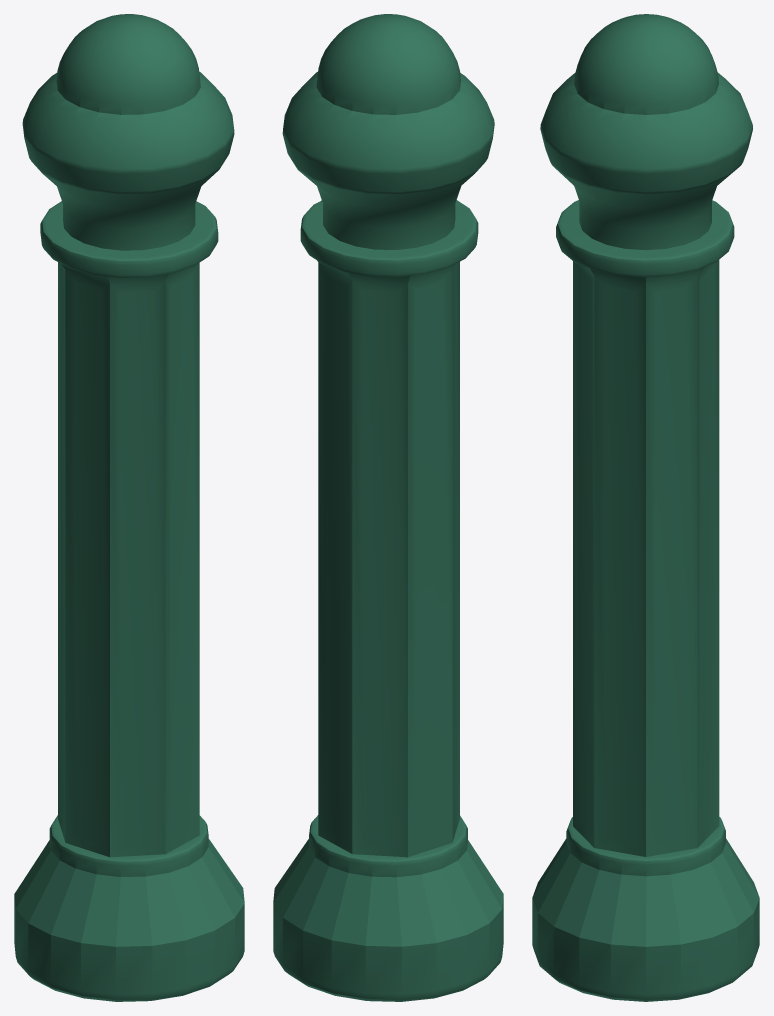
The model's file is Pole_01.fbx.
The picture shows the model from 3 angles, left to right: view 1: azimuth 30°, elevation 25°; view 2: azimuth 150°, elevation 25°; view 3: azimuth 270°, elevation 25°; orthographic projection.
Visible parts, largest first — view 1: polySurface16; view 2: polySurface16; view 3: polySurface16.
Boxes of the visible parts, left/top/right/bottom form: polySurface16: left=14, top=14, right=244, bottom=1001; polySurface16: left=273, top=14, right=503, bottom=1001; polySurface16: left=532, top=14, right=759, bottom=1001.
Bounding box in the file's own units: 23.29 × 103 × 22.69.
Materials: 1 (1 with a texture image).
